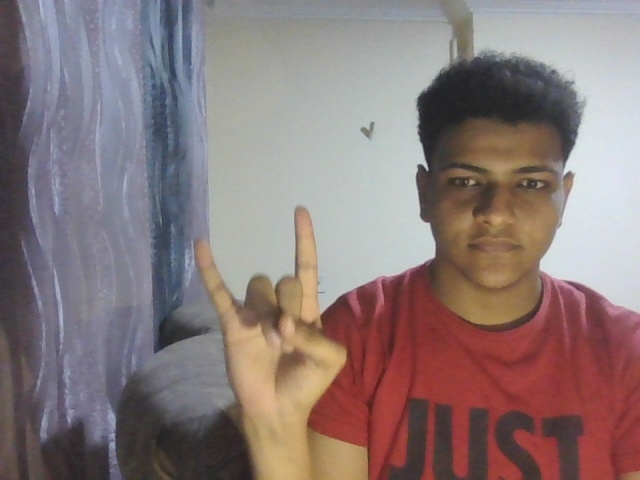iloveyou: (179, 202, 353, 414)
